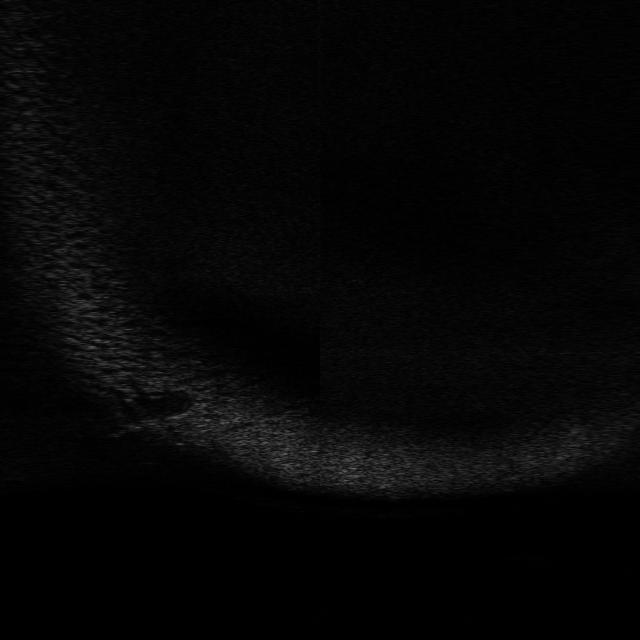plane: (109, 409, 190, 443)
